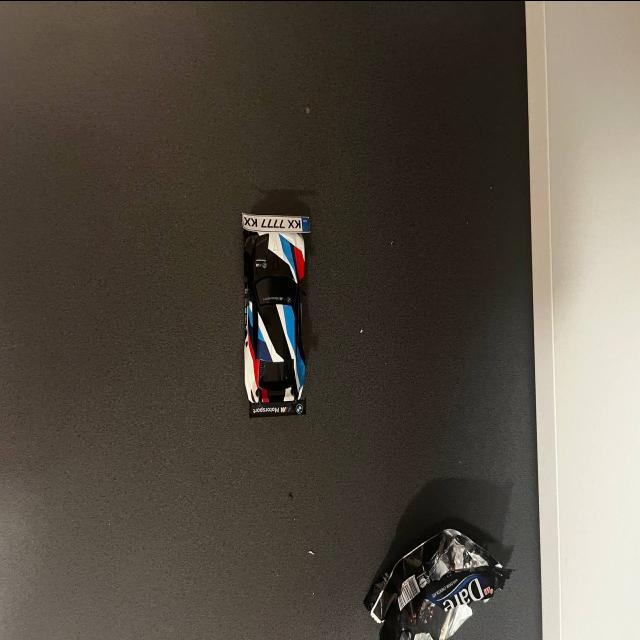cars: (230, 200, 319, 428)
